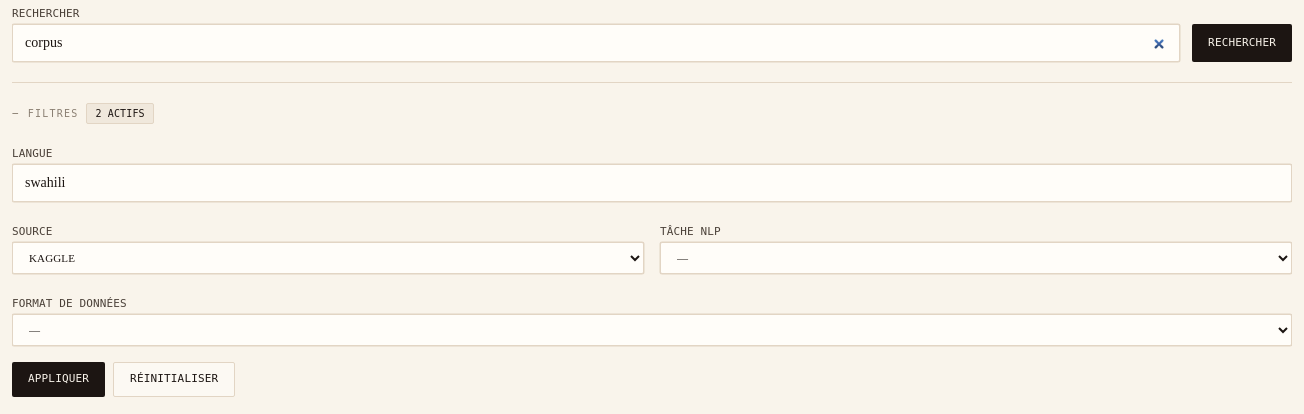
Scenario: CatalogExplorerForm › vide tous les champs et revient à /catalog à la réinitialisation
This screenshot has width=1304, height=414.
Click the button "Réinitialiser" at x=174, y=379, box [113, 362, 235, 396]
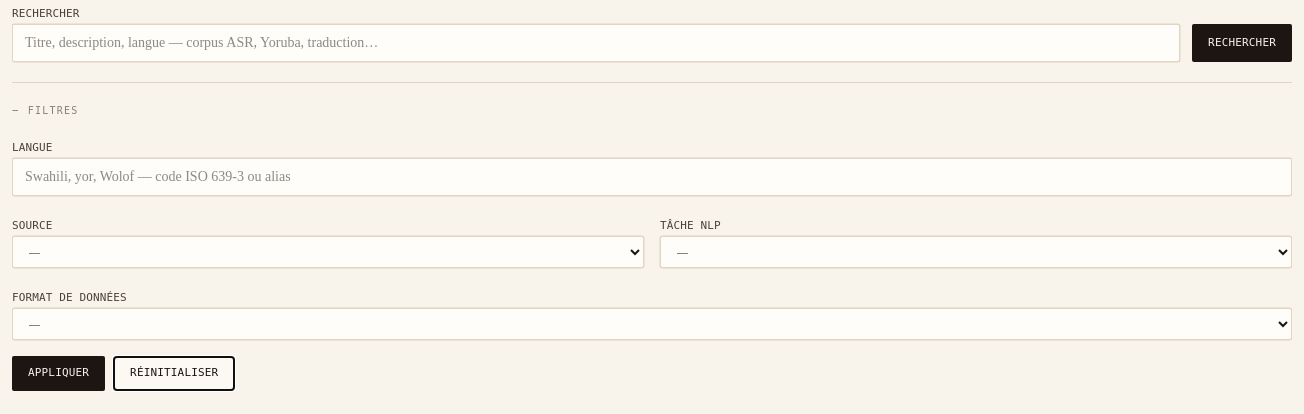
Expected: the search field labelled "Rechercher" is empty, [12, 24, 1180, 62]
Expected: the search field labelled "Langue" is empty, [12, 158, 1292, 196]
Expected: the dropdown labelled "Source" shows "—", [12, 236, 644, 268]
